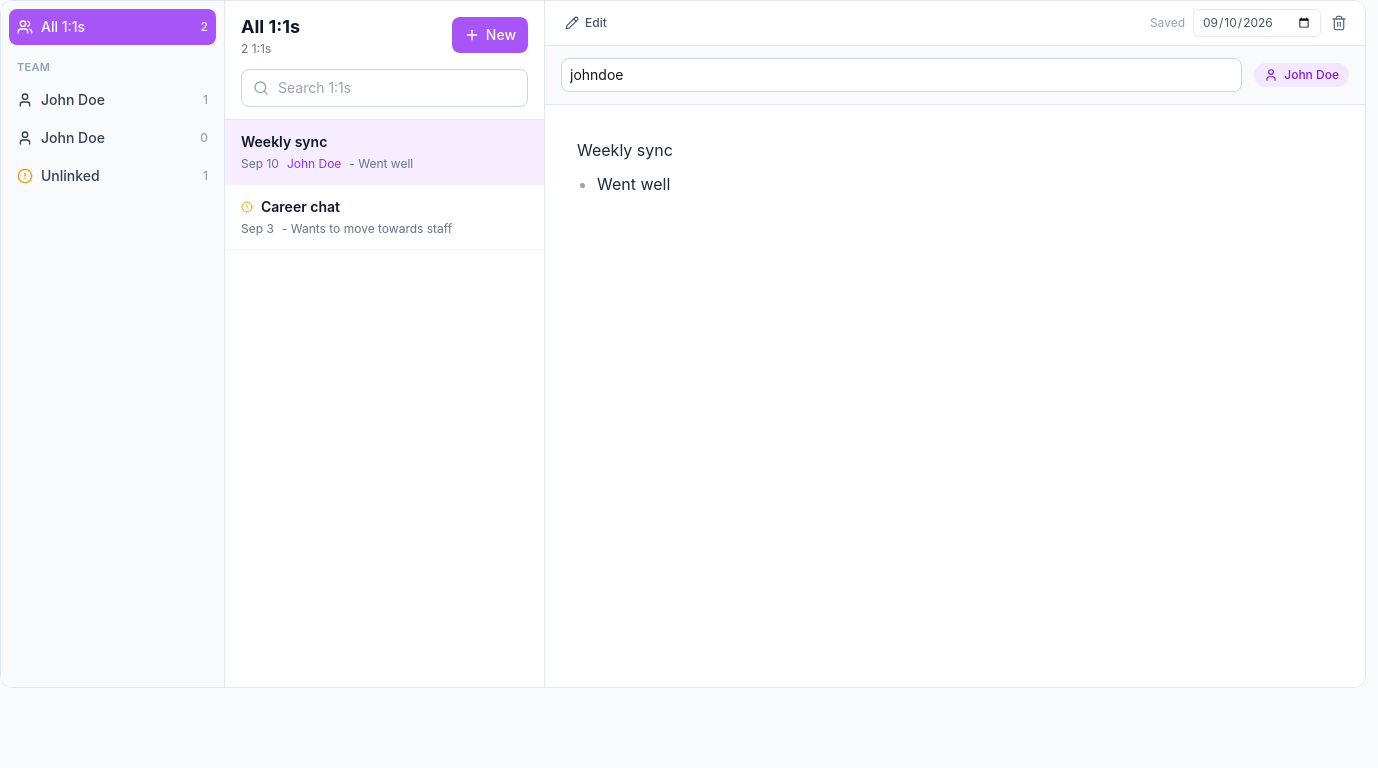
Test case: 1:1 Meetings page › should autosave what is typed and title the 1:1 from its first line
Expected: the 1st text "Weekly sync" is shown, 241,133 -> 327,150
Click the button with aria-label "New 1:1" at (490, 35), box 452,17 -> 528,53
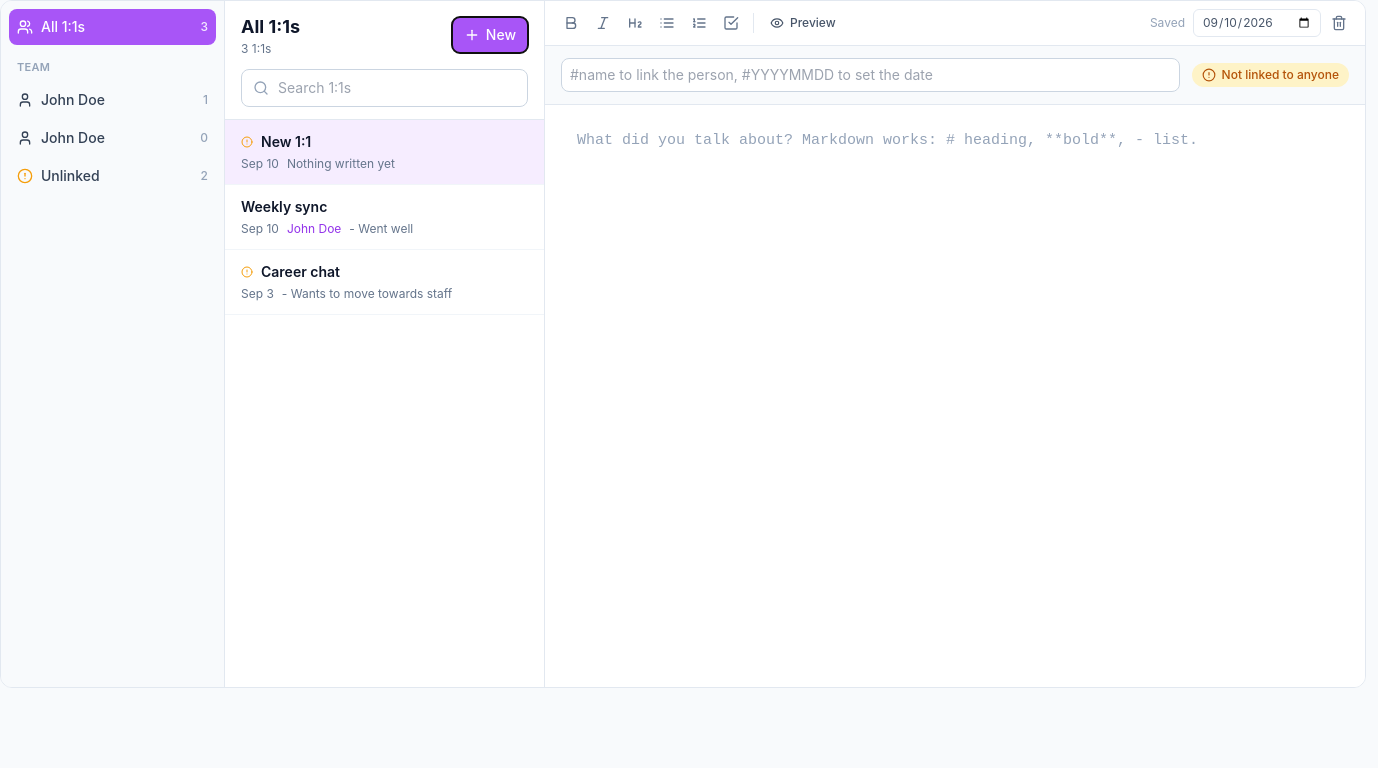
Type "Career chat with Alice" into the text box named "1:1 notes" at (955, 396), box 545,105 -> 1365,687
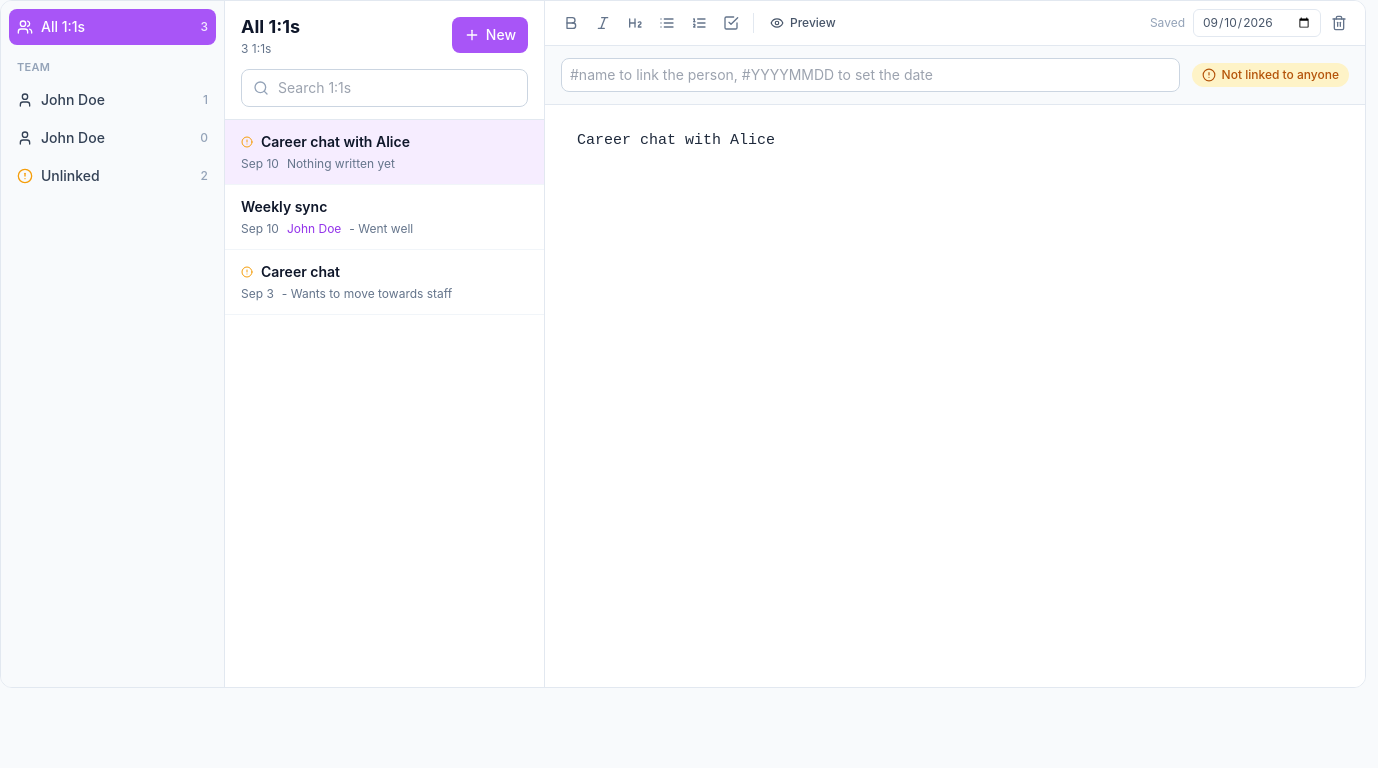
Expected: the text "Career chat with Alice" is shown, 261,133 -> 410,150
